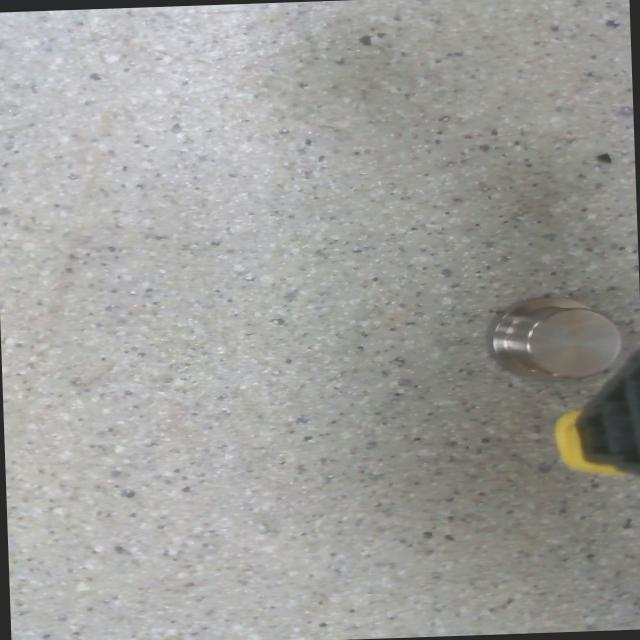sensor: (484, 292, 624, 386)
